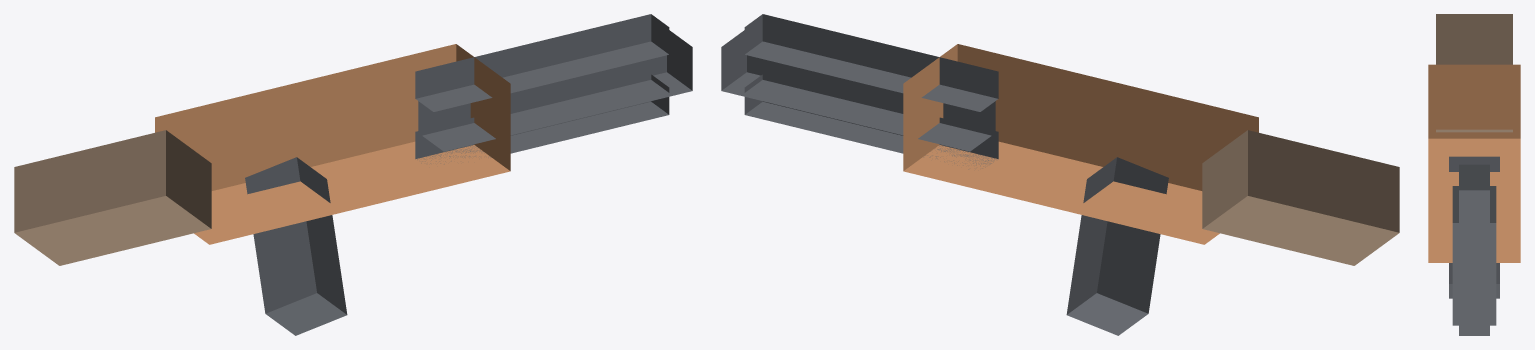
File: carrot_scatter_lod0.glb
The picture shows the model from 3 angles, left to right: view 1: azimuth 30°, elevation 25°; view 2: azimuth 150°, elevation 25°; view 3: azimuth 270°, elevation 25°; orthographic projection. The views are drawn at different scales.
Visible parts, largest first — view 1: carrot_scatter; view 2: carrot_scatter; view 3: carrot_scatter.
Boxes of the visible parts, x1,y1,x2,y2 form: carrot_scatter: [14, 14, 692, 335]; carrot_scatter: [721, 14, 1399, 335]; carrot_scatter: [1428, 14, 1520, 335].
Size of the model in its own units: 2.46 by 0.772 by 0.36.
